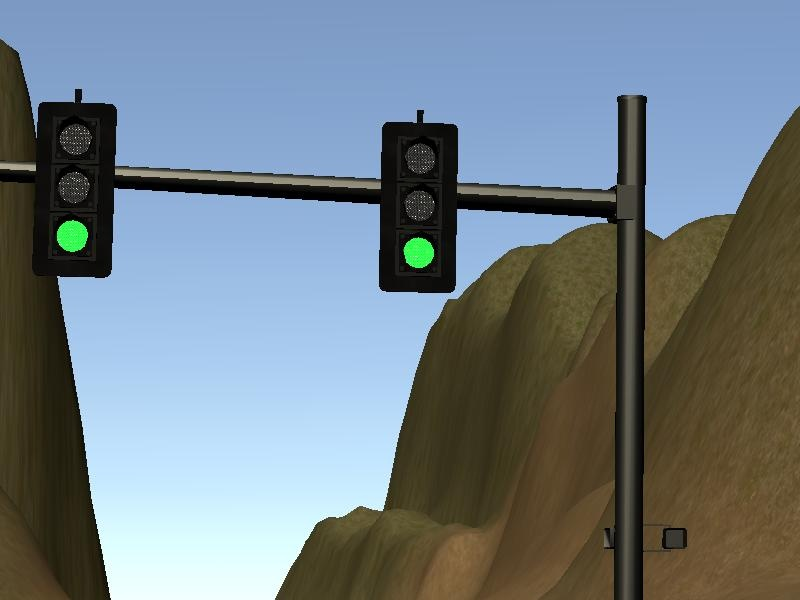GREEN: (37, 103, 113, 275), (380, 122, 456, 293)
